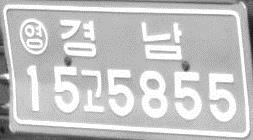1: (24, 62, 44, 113)
5: (206, 70, 239, 123), (172, 68, 202, 120), (106, 66, 135, 117), (51, 62, 79, 114)
8: (138, 68, 169, 119)
경남_D: (56, 16, 185, 62)
고: (80, 67, 106, 113)
영: (18, 17, 50, 56)
